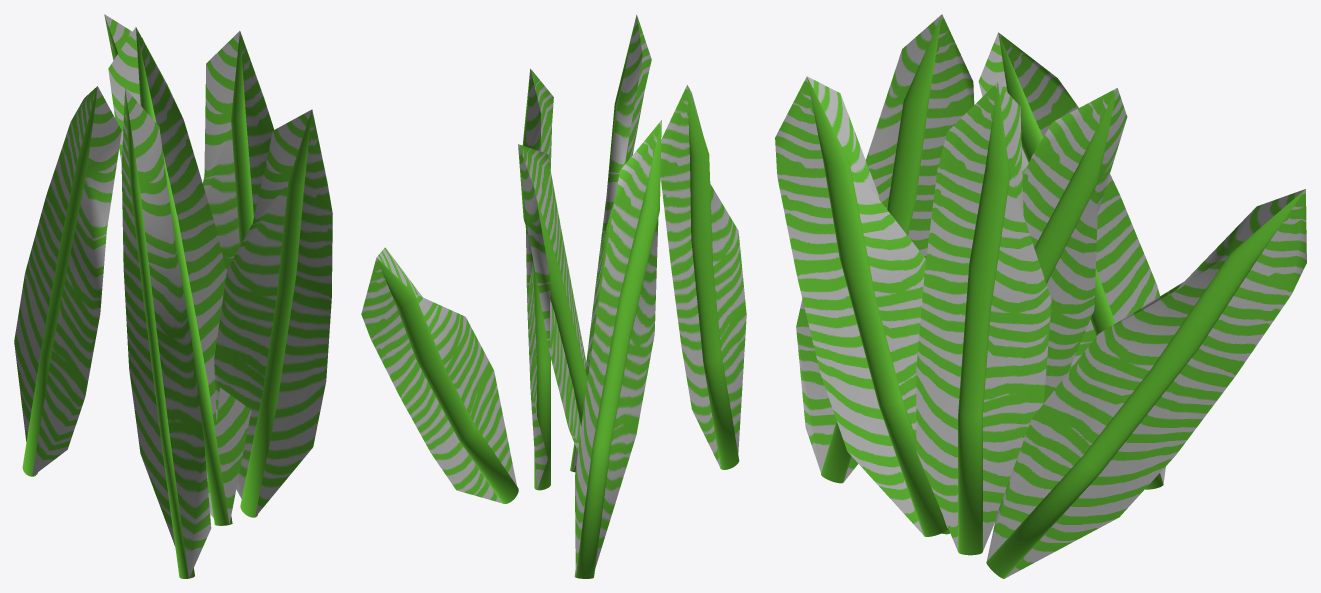
File: seaweed.glb
3 renders of one model, left to right at view 1: azimuth 30°, elevation 25°; view 2: azimuth 150°, elevation 25°; view 3: azimuth 270°, elevation 25°, orthographic. The views are drawn at different scales.
Visible parts, largest first — view 1: Algae; view 2: Algae; view 3: Algae.
Boxes of the visible parts, <box> form: Algae: <box>14,14,332,578</box>; Algae: <box>361,14,746,578</box>; Algae: <box>775,14,1306,578</box>.
Size of the model in its own units: 0.6168 by 1.52 by 1.52.
2 materials, 2 textured.
